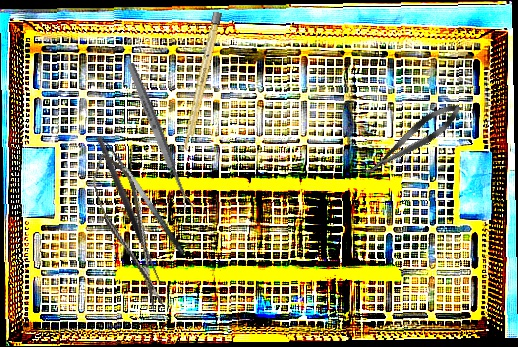Hook Surgical: (95, 132, 172, 287)
Micro Scissor: (85, 147, 173, 316), (357, 96, 467, 184)
Scalpel Handle: (181, 11, 223, 152)
Spatula Surgical: (92, 131, 187, 263)
Surgical Spoon: (124, 61, 195, 212)
